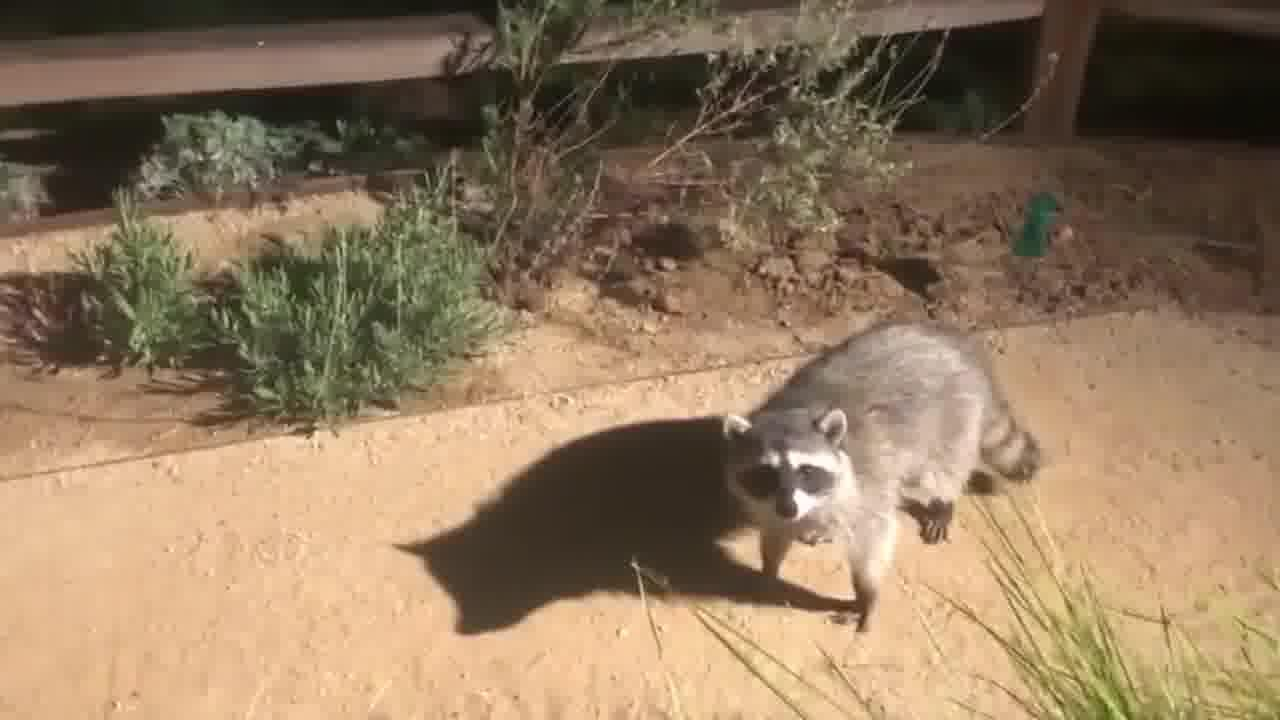raccoon: (708, 306, 1058, 643)
